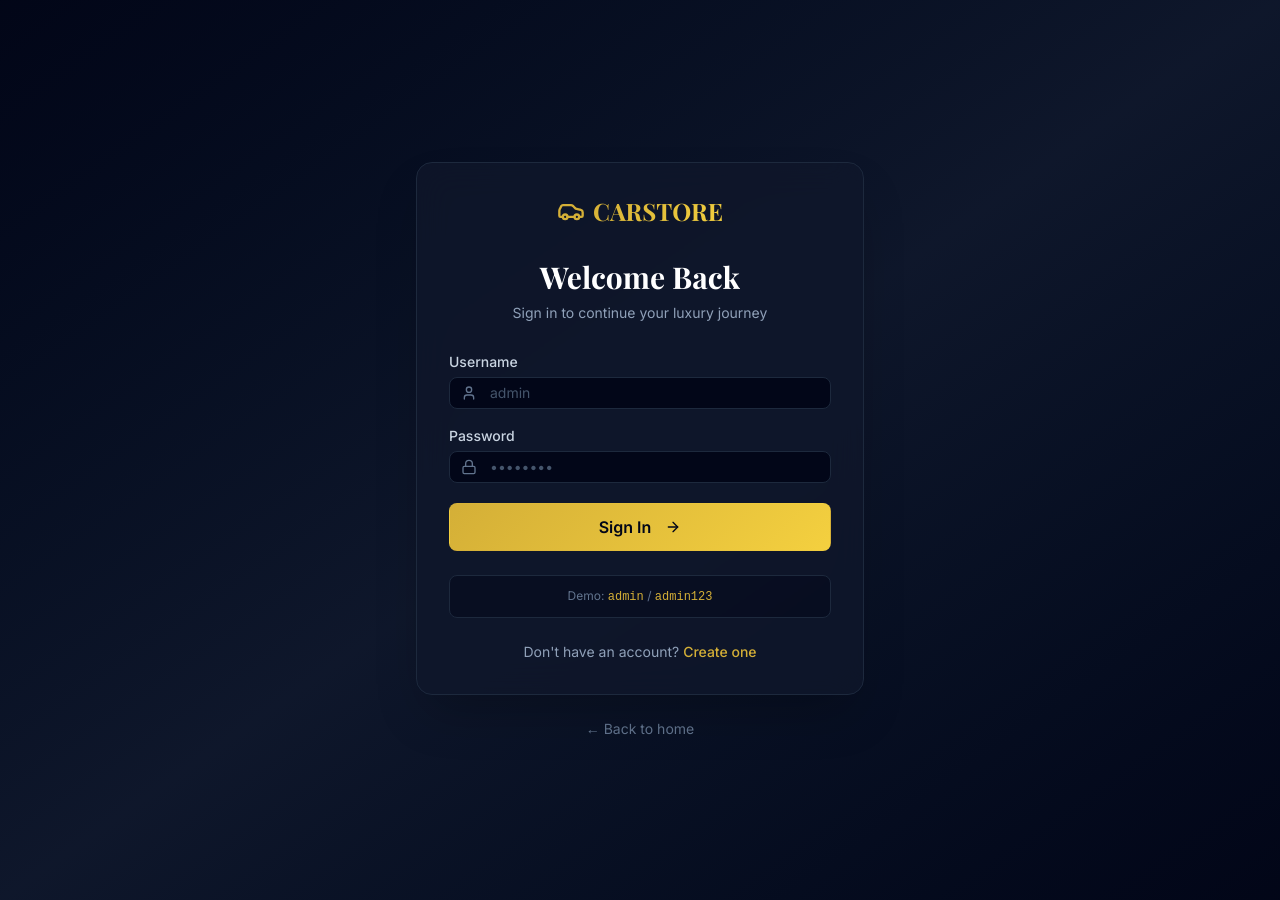
Scenario: LoginPage Component › displays validation error messages when submitting empty form
Click the button "Sign In".
click(640, 526)  # box [449,502,831,550]
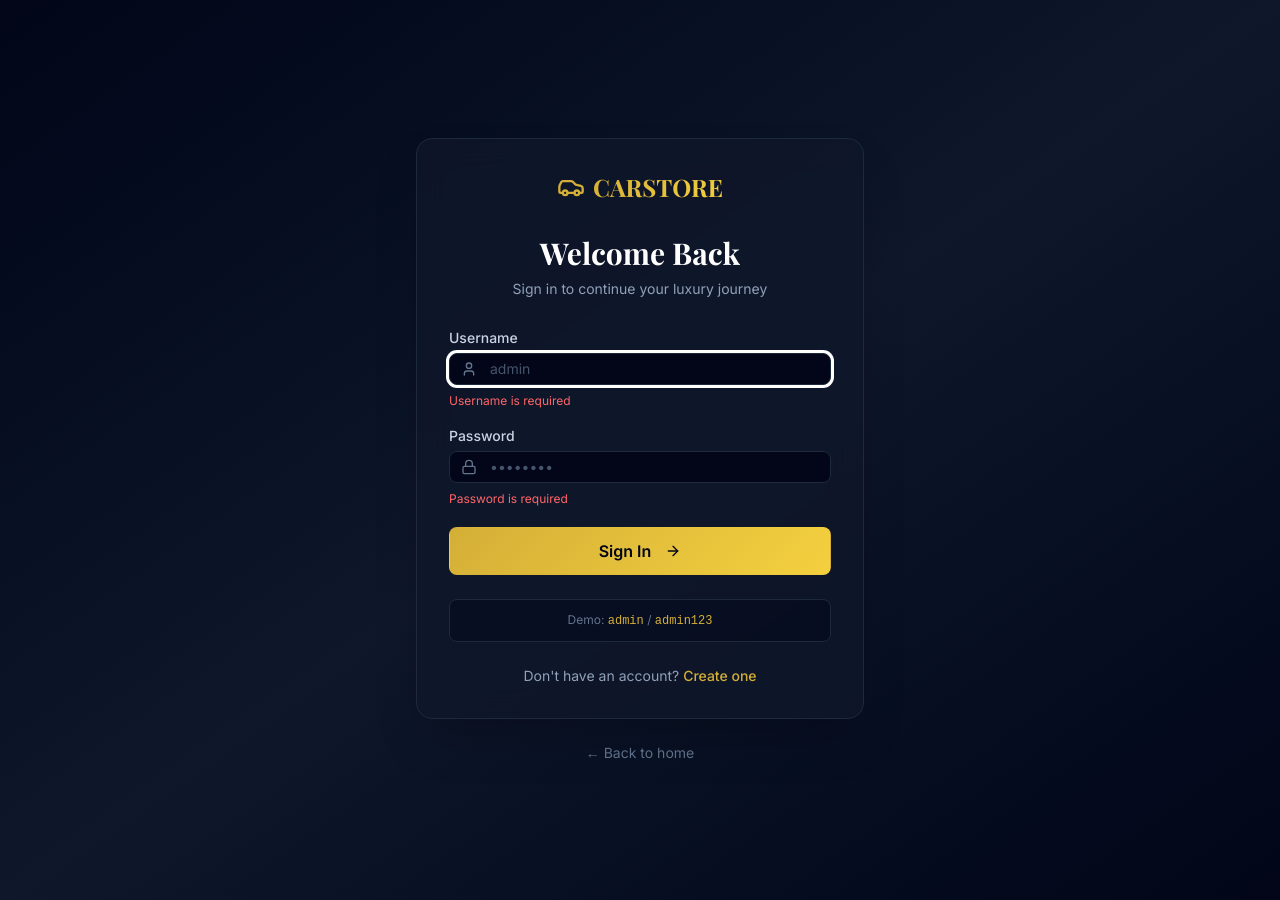
Result: the text "Username is required" is shown at [449,392,571,408]
Result: the text "Password is required" is shown at [449,490,568,506]
